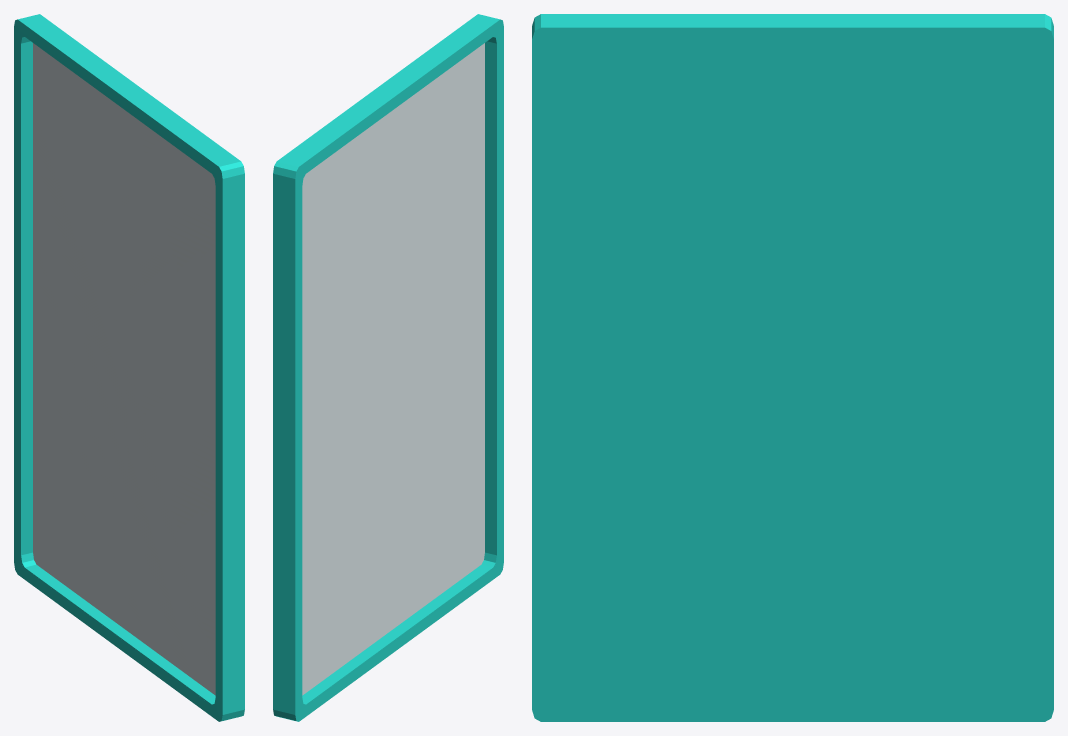
Rendered from affiche_verticale.fbx.
3 views of the same model, side by side, from view 1: azimuth 30°, elevation 25°; view 2: azimuth 150°, elevation 25°; view 3: azimuth 270°, elevation 25° (orthographic). The views are drawn at different scales.
Parts seen in each view (by area): view 1: affiche_verticale, affiche_verticale_néon; view 2: affiche_verticale, affiche_verticale_néon; view 3: affiche_verticale_néon.
Boxes of the visible parts, bbox=[...] form: affiche_verticale: bbox=[19, 31, 217, 710]; affiche_verticale_néon: bbox=[14, 14, 244, 721]; affiche_verticale: bbox=[300, 31, 498, 710]; affiche_verticale_néon: bbox=[273, 14, 503, 721]; affiche_verticale_néon: bbox=[532, 14, 1053, 721].
Bounding box in the file's own units: 12.37 × 294 × 200.
